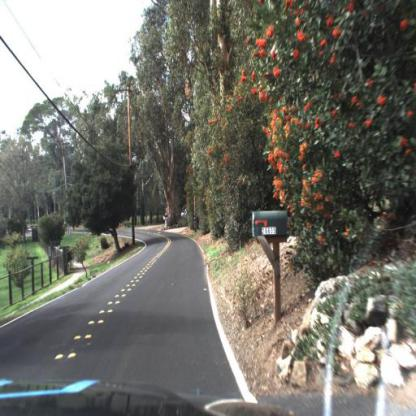car: (179, 203, 193, 228)
